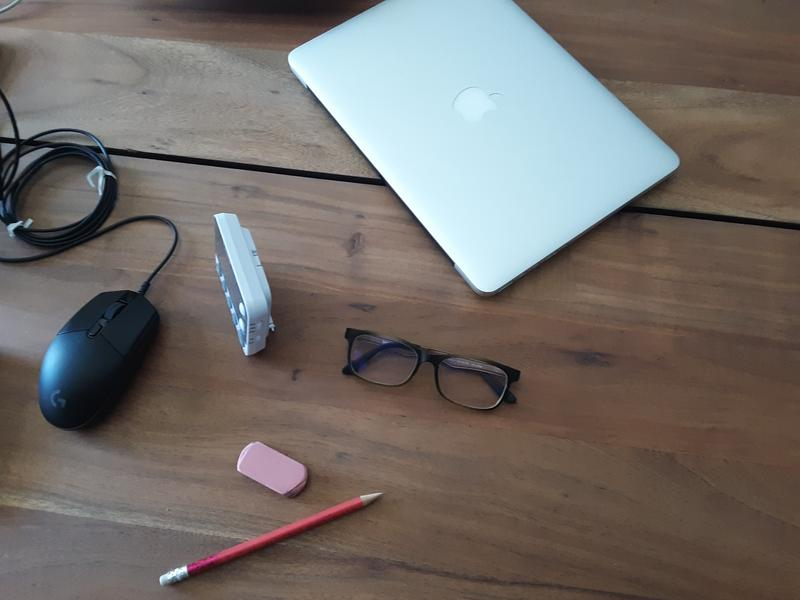glasses: (340, 327, 522, 416)
